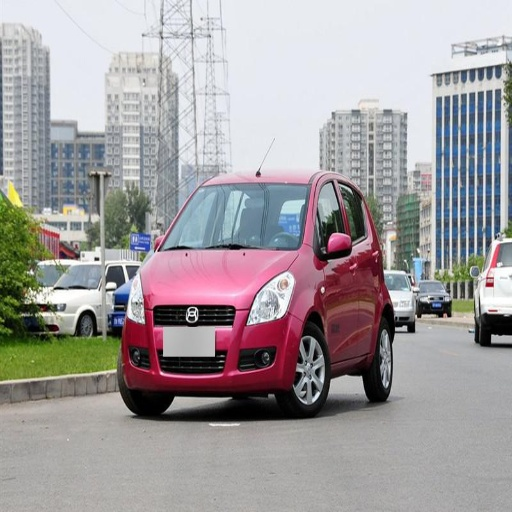front_bumper: (122, 304, 302, 393)
front_glass: (157, 186, 307, 249)
front_left_door: (314, 175, 358, 361)
